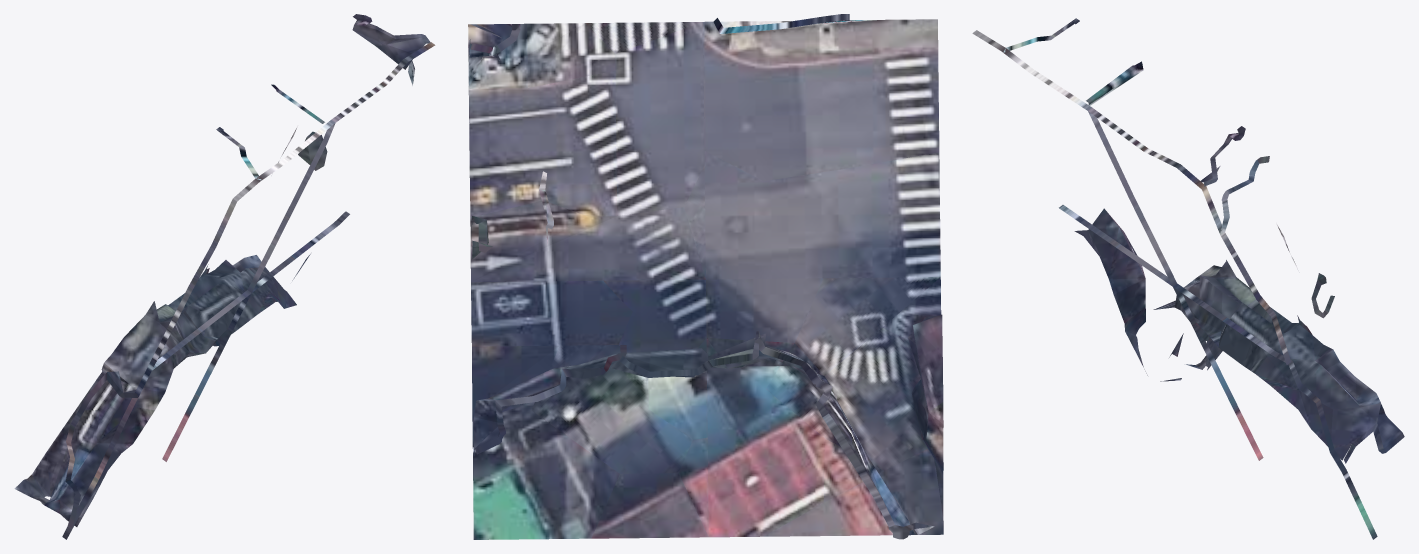
The picture shows the model from 3 angles, left to right: view 1: azimuth 30°, elevation 25°; view 2: azimuth 150°, elevation 25°; view 3: azimuth 270°, elevation 25°; orthographic projection. The views are drawn at different scales.
Bounding box in the file's own units: 40.02 × 37.58 × 34.33.
Materials: 1 (1 with a texture image).
